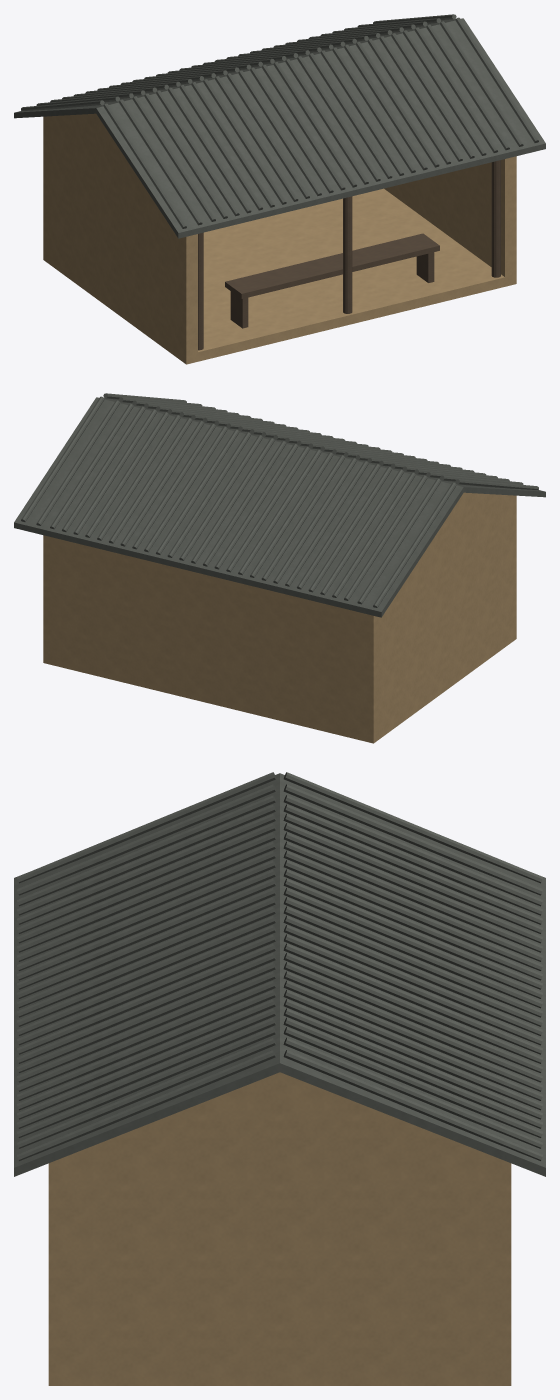
3 renders of one model, top to bottom at view 1: azimuth 30°, elevation 25°; view 2: azimuth 150°, elevation 25°; view 3: azimuth 270°, elevation 25°, orthographic. The views are drawn at different scales.
Parts seen in each view (by area): view 1: S86-static-LY_P01_tile__PBR, S86-static-LY_P01_earth__PBR, S86-static-LY_P01_timber__PBR; view 2: S86-static-LY_P01_earth__PBR, S86-static-LY_P01_tile__PBR; view 3: S86-static-LY_P01_tile__PBR, S86-static-LY_P01_earth__PBR.
Part boxes in pixels (box(x1,y1,x2,y2)): S86-static-LY_P01_tile__PBR: box(14, 14, 545, 238); S86-static-LY_P01_earth__PBR: box(43, 113, 516, 364); S86-static-LY_P01_timber__PBR: box(198, 160, 500, 350); S86-static-LY_P01_earth__PBR: box(43, 492, 516, 743); S86-static-LY_P01_tile__PBR: box(14, 393, 545, 617); S86-static-LY_P01_tile__PBR: box(14, 772, 545, 1176); S86-static-LY_P01_earth__PBR: box(48, 1072, 511, 1385).
Bounding box in the file's own units: 8.9 × 4.93 × 6.9.
Materials: 3 (3 with a texture image).
